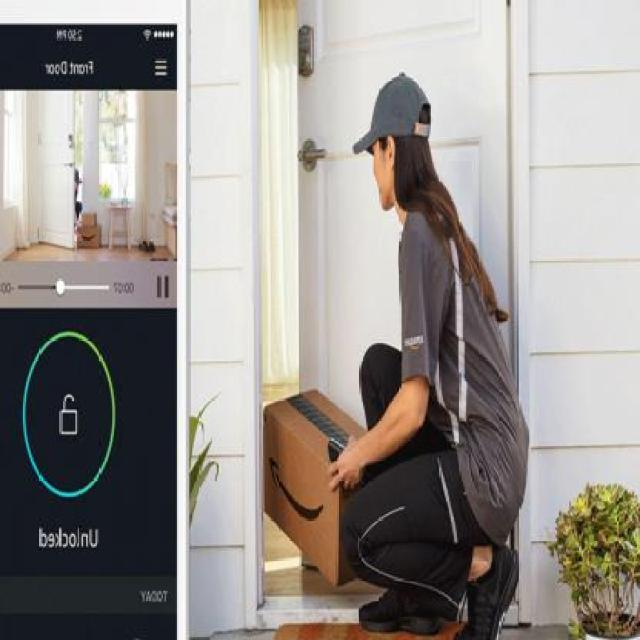cardboxes: (259, 383, 390, 591), (73, 222, 104, 249), (79, 208, 98, 228)
